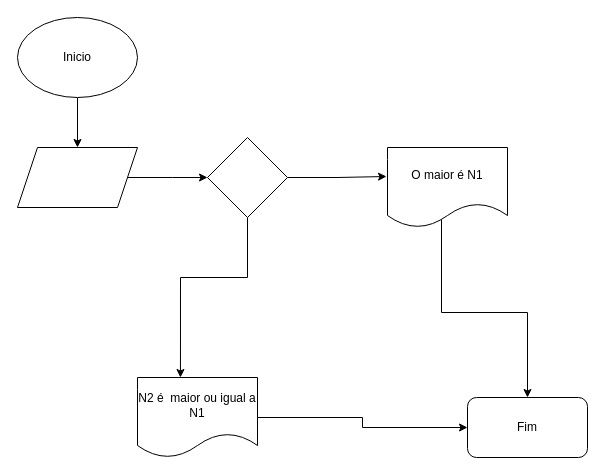
Image size: 605x475. Some labels were removed from this diagram. Here are the shapes that lost their labels. From the top down, the centre of each, then its label:
point (77, 177): N1,N2;
point (247, 177): N1>N2;
